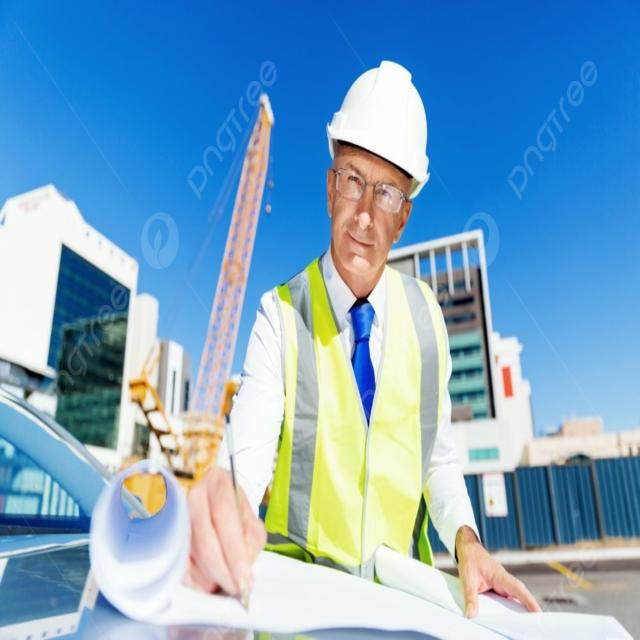helmet: (324, 56, 434, 196)
no-goggles: (331, 153, 403, 210)
vest: (255, 247, 459, 580)
